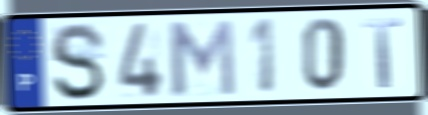0: (300, 15, 346, 95)
1: (247, 15, 275, 98)
4: (116, 19, 165, 101)
M: (164, 17, 239, 98)
S: (48, 20, 108, 104)
T: (361, 16, 406, 90)
